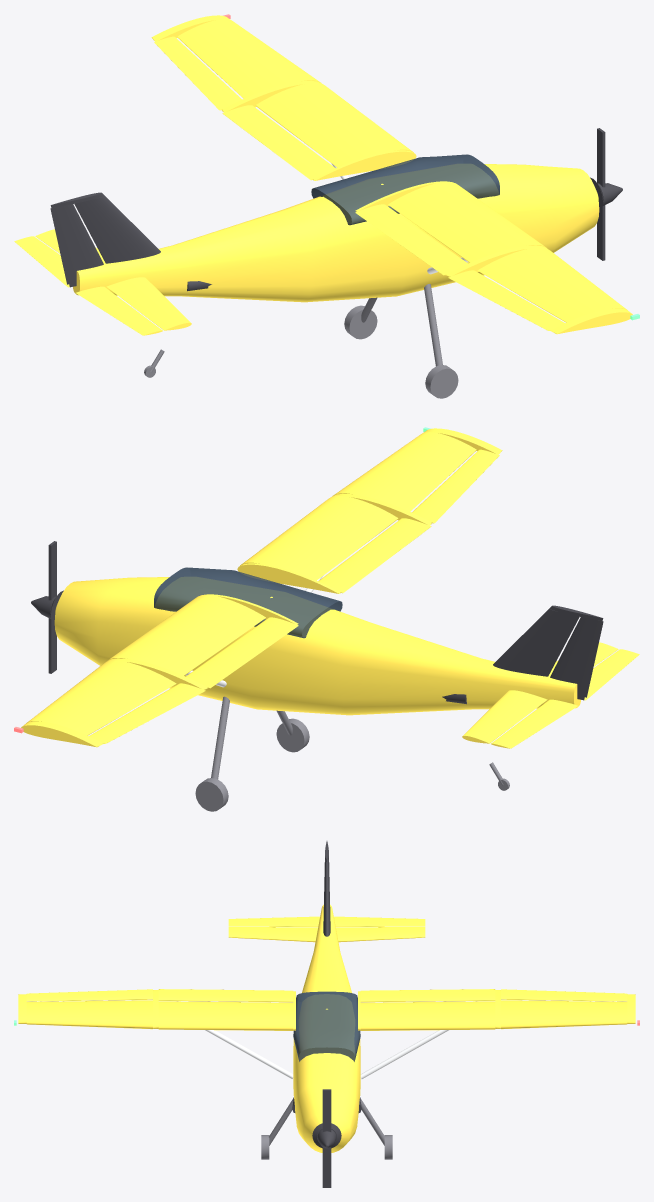
Rendered from cub.glb.
The picture shows the model from 3 angles, top to bottom: view 1: azimuth 30°, elevation 25°; view 2: azimuth 150°, elevation 25°; view 3: azimuth 270°, elevation 25°; orthographic projection. The views are drawn at different scales.
Visible parts, largest first — view 1: body, flapL, gear, flapR, rudder, aileronL, aileronR, elevatorR, elevatorL, prop; view 2: body, flapR, gear, flapL, rudder, aileronR, aileronL, elevatorL, elevatorR, prop; view 3: body, flapL, flapR, aileronL, aileronR, gear, elevatorL, elevatorR, prop.
Part boxes in pixels (<box>): body: <box>35,14,639,334</box>; flapL: <box>222,105,335,180</box>; gear: <box>144,284,458,398</box>; flapR: <box>355,204,467,275</box>; rudder: <box>50,204,103,284</box>; aileronL: <box>154,36,241,110</box>; aileronR: <box>448,270,564,330</box>; elevatorR: <box>76,286,162,335</box>; elevatorL: <box>14,236,69,287</box>; prop: <box>597,128,605,260</box>; body: <box>14,427,618,747</box>; flapR: <box>318,518,431,593</box>; gear: <box>195,696,509,811</box>; flapL: <box>186,617,298,688</box>; rudder: <box>550,617,603,697</box>; aileronR: <box>412,449,499,523</box>; aileronL: <box>89,683,205,743</box>; elevatorL: <box>491,699,577,748</box>; elevatorR: <box>584,649,639,700</box>; prop: <box>48,541,56,673</box>; body: <box>14,841,639,1152</box>; flapL: <box>360,989,495,1002</box>; flapR: <box>158,989,293,1002</box>; aileronL: <box>501,989,627,1001</box>; aileronR: <box>26,989,152,1001</box>; gear: <box>261,1098,392,1159</box>; elevatorL: <box>334,916,425,926</box>; elevatorR: <box>228,916,319,926</box>; prop: <box>322,1089,331,1187</box>.
Size of the model in its own units: 8.96 by 3.7 by 11.15.
